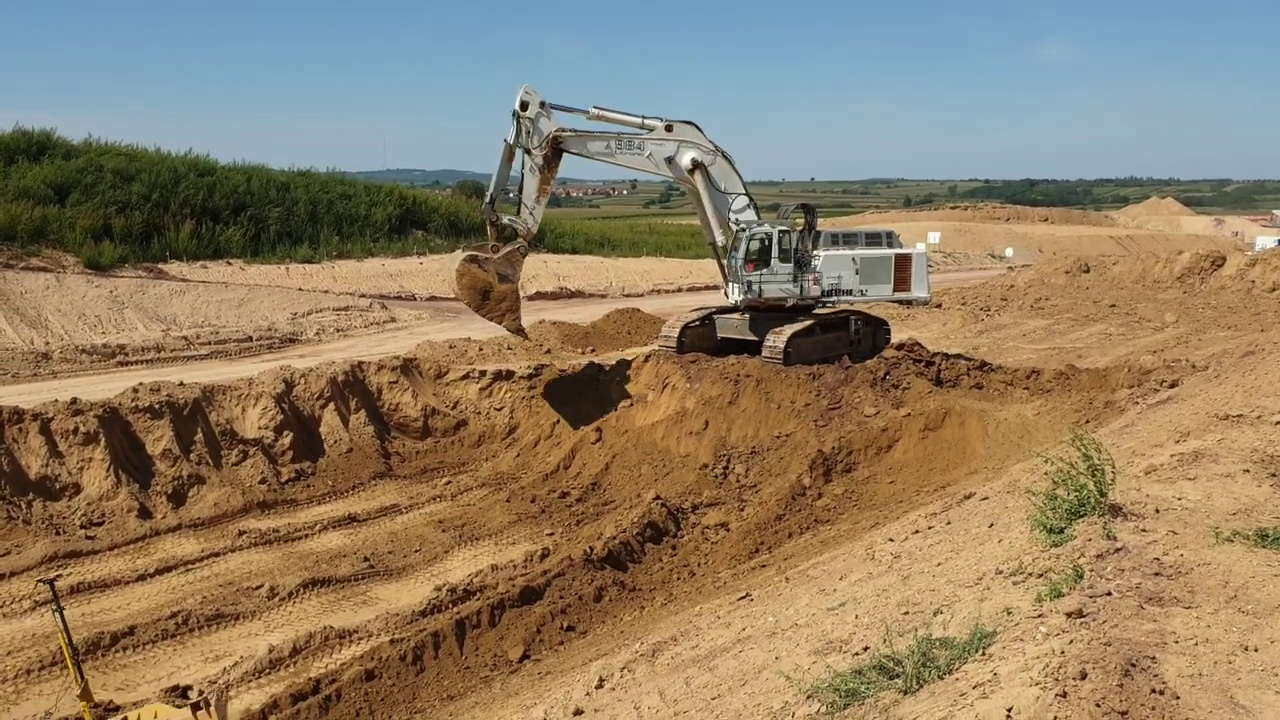bulldozer: (19, 564, 246, 720)
excavator: (452, 81, 936, 372)
